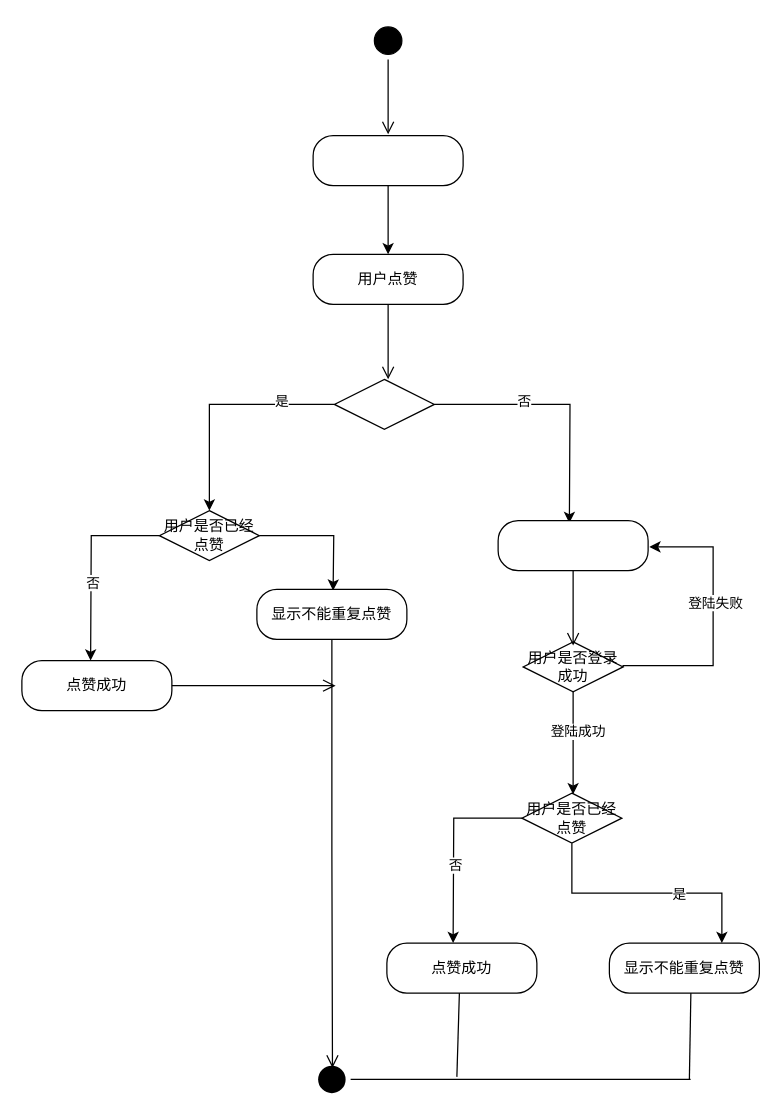
The diagram is 781 pixels wide and 1120 high, and some of its shapes have lost their labels. The shapes that lost their labels are listed below. From the top down, each one's centre as x and y in pixels, then its label:
[387,160]: 进入帖子展示页面
[383,403]: 用户是否登录
[572,545]: 用户登录
